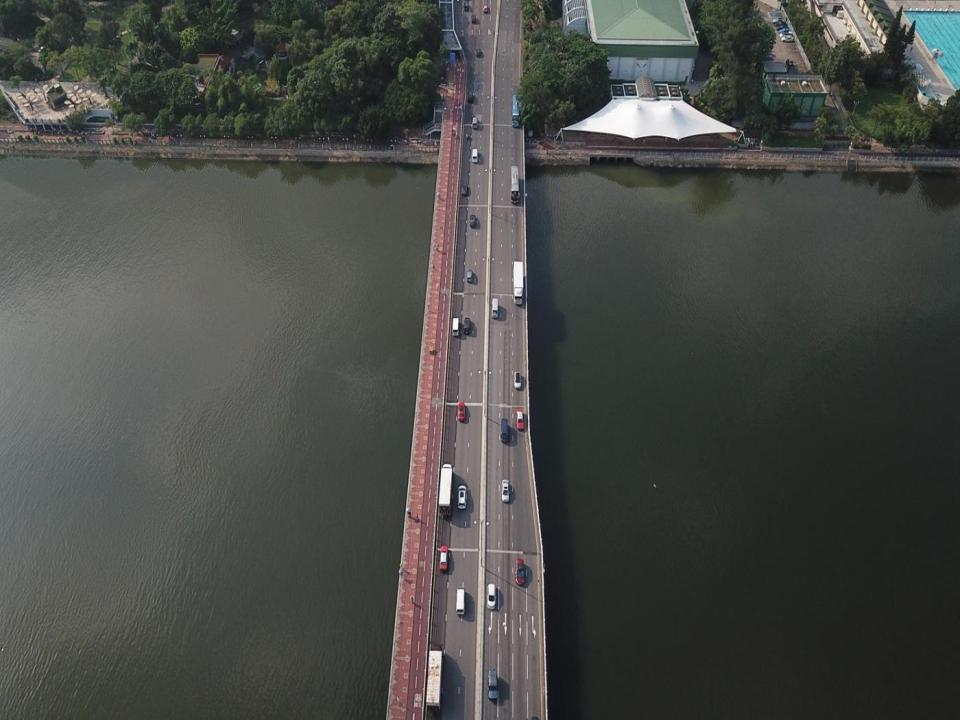bus: (509, 165, 520, 204), (511, 94, 521, 128)
car: (487, 668, 499, 702), (514, 557, 526, 586), (486, 582, 497, 610), (439, 544, 449, 572), (457, 484, 467, 510), (501, 479, 510, 503), (516, 408, 524, 432), (457, 401, 466, 422), (514, 371, 522, 390), (463, 317, 471, 334), (469, 214, 477, 228), (471, 116, 479, 130), (780, 34, 794, 42), (779, 30, 793, 38), (773, 19, 786, 27), (461, 182, 468, 196), (778, 27, 790, 35), (466, 270, 473, 283), (467, 90, 474, 103), (776, 23, 789, 30), (772, 16, 785, 23), (463, 1, 470, 12), (470, 14, 478, 23), (482, 4, 489, 14), (476, 48, 482, 58)
truck: (426, 642, 444, 714), (438, 463, 454, 516), (513, 261, 523, 305)
van: (455, 586, 466, 616), (500, 418, 509, 443), (451, 316, 460, 336), (491, 298, 498, 319), (472, 147, 479, 164)
